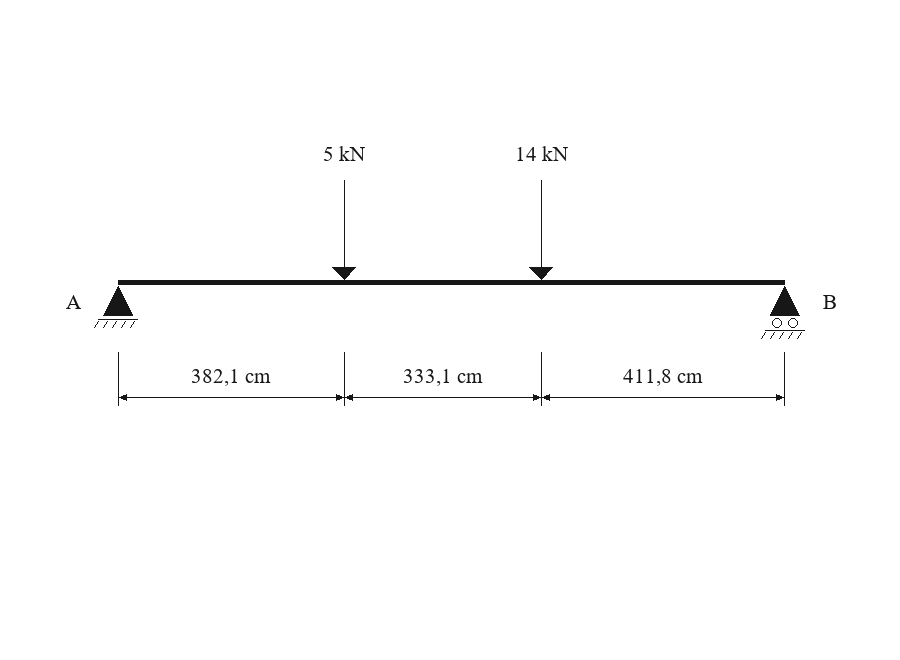pin_support: (94, 286, 138, 328)
point_load: (332, 180, 356, 280), (529, 180, 553, 280)
roller_support: (761, 286, 805, 339)
